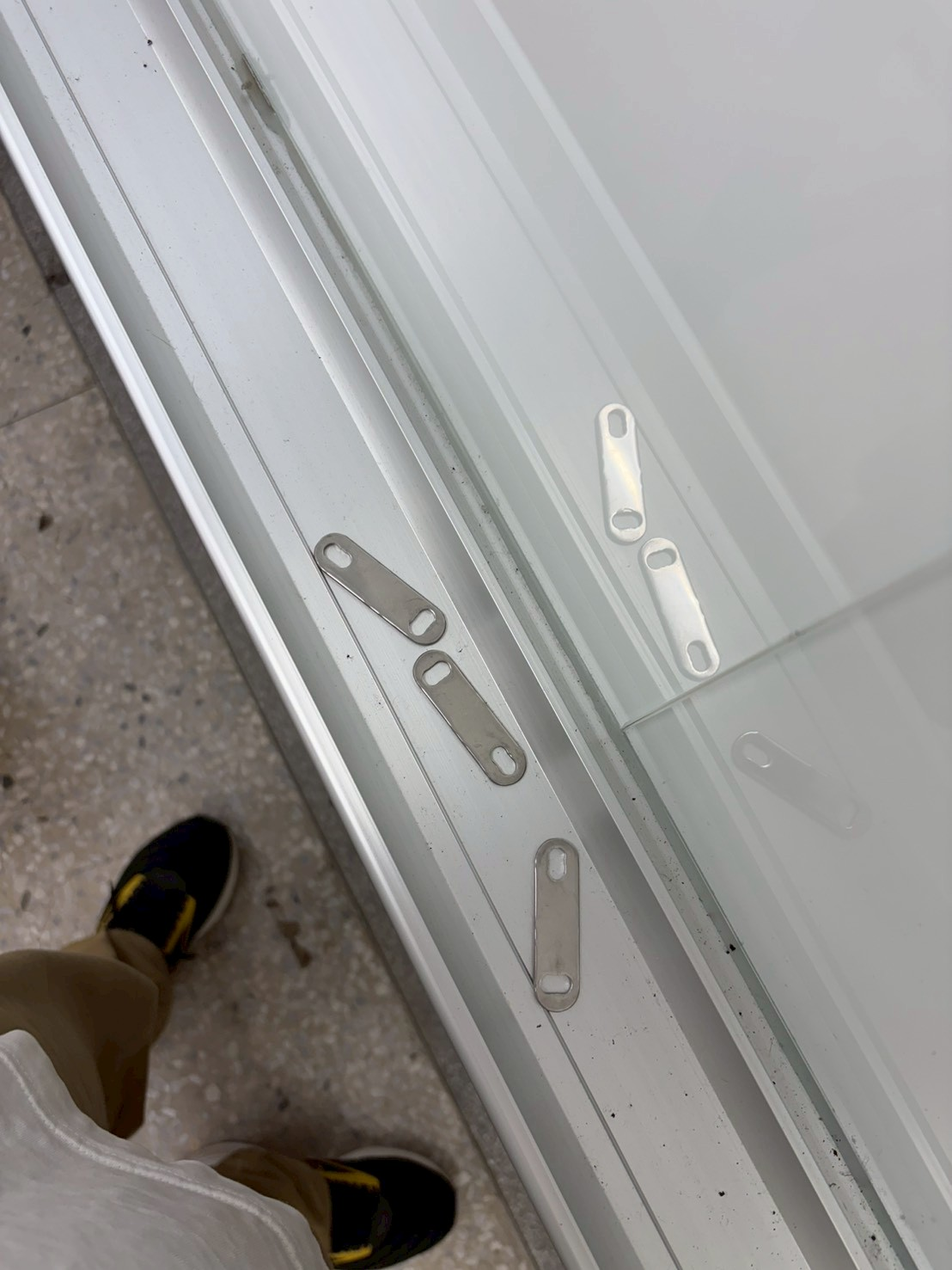Fe: (542, 777, 591, 948), (532, 839, 580, 1010), (464, 622, 512, 792)
